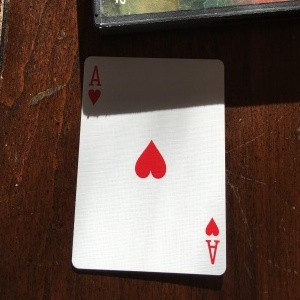card: (71, 54, 229, 277)
